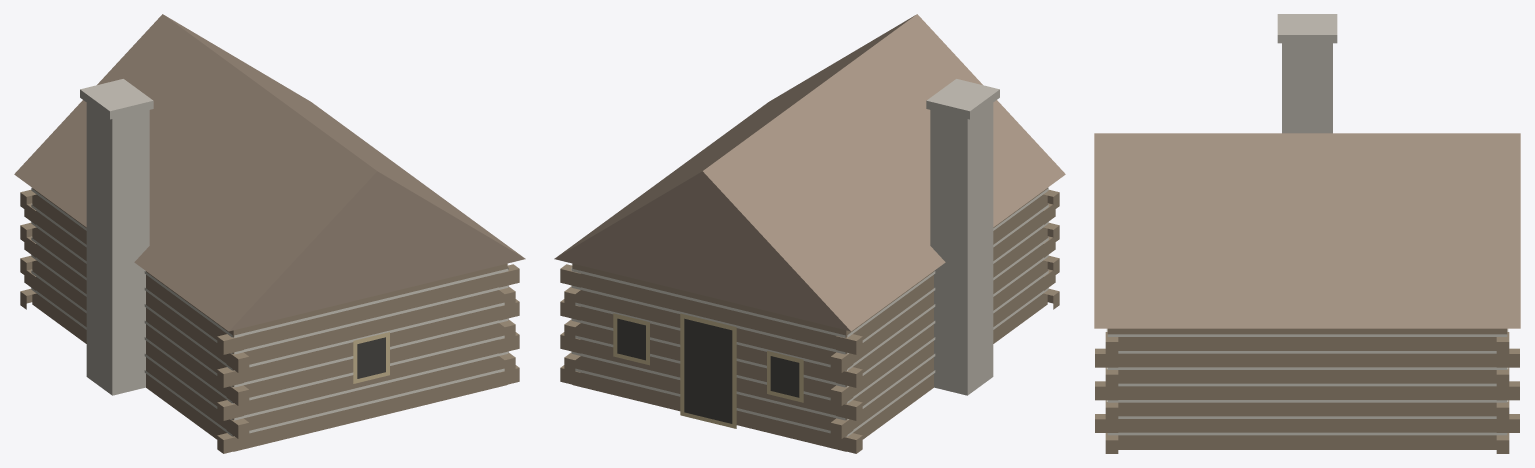
File: recon_1835_blk_randolph_dearborn_d1_04__inferred_1835.glb
3 views of the same model, side by side, from view 1: azimuth 30°, elevation 25°; view 2: azimuth 150°, elevation 25°; view 3: azimuth 270°, elevation 25° (orthographic).
Parts seen in each view (by area): view 1: recon_1835_blk_randolph_dearborn_d1_04__inferred_1835; view 2: recon_1835_blk_randolph_dearborn_d1_04__inferred_1835; view 3: recon_1835_blk_randolph_dearborn_d1_04__inferred_1835.
Part boxes in pixels (bbox=[...]): recon_1835_blk_randolph_dearborn_d1_04__inferred_1835: bbox=[14, 14, 525, 453]; recon_1835_blk_randolph_dearborn_d1_04__inferred_1835: bbox=[554, 14, 1065, 453]; recon_1835_blk_randolph_dearborn_d1_04__inferred_1835: bbox=[1094, 14, 1520, 453].
Bounding box in the file's own units: 6.98 × 5.98 × 8.02.
